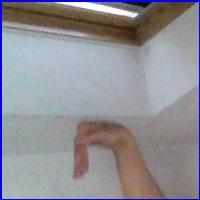del: (67, 119, 137, 186)
